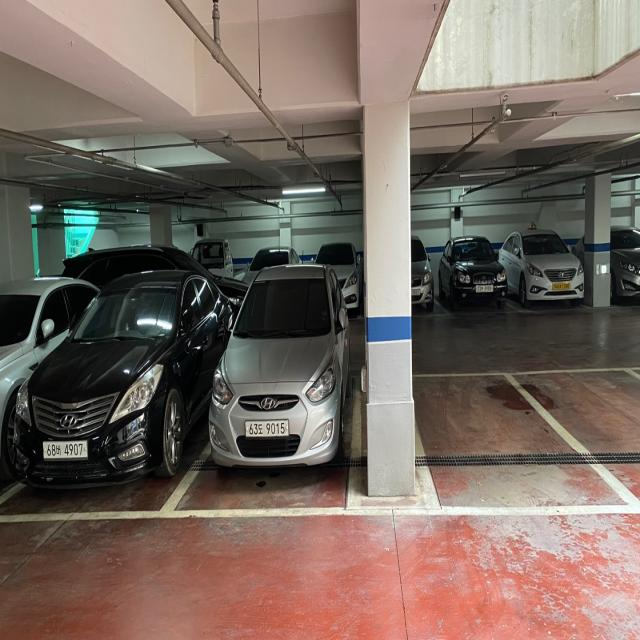empty: (412, 369, 639, 516), (500, 364, 640, 519)
occupied: (17, 267, 204, 484), (212, 263, 346, 479)
